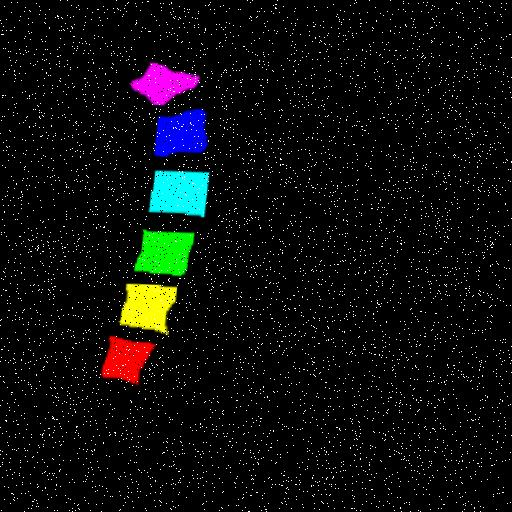L1: (104, 336, 158, 385)
L2: (122, 284, 179, 334)
L3: (138, 231, 196, 275)
L4: (152, 171, 210, 217)
L5: (155, 110, 208, 157)
S1: (131, 65, 199, 105)
